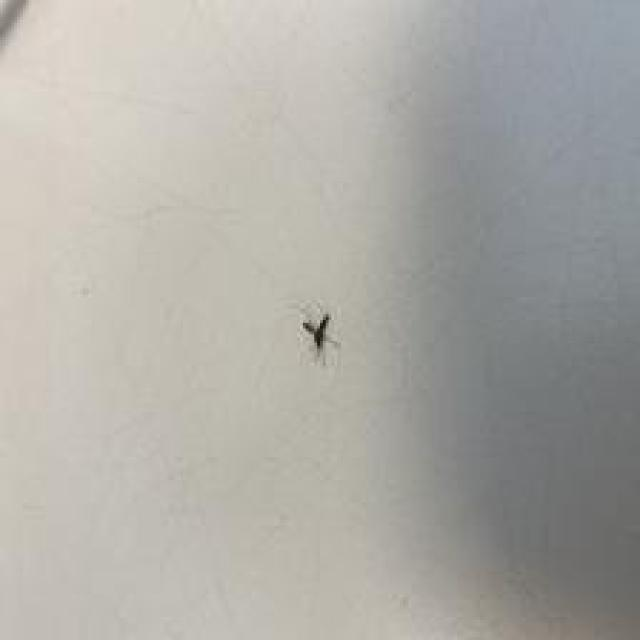Aedes albopictus: (300, 313, 340, 364)
